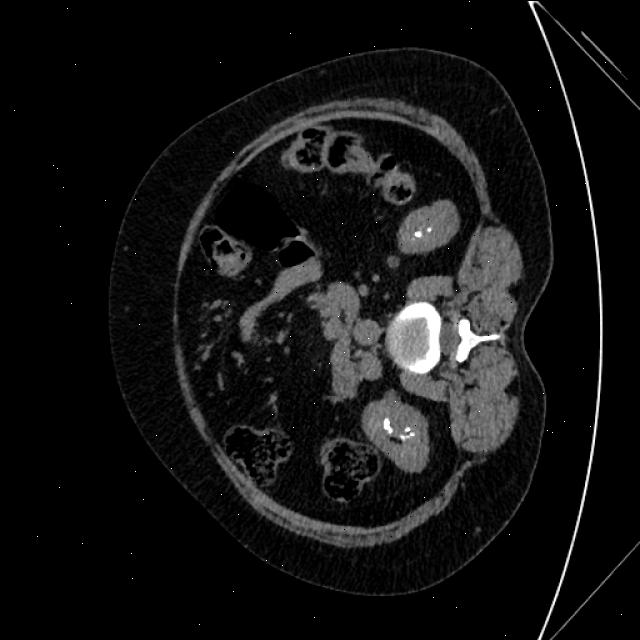kidneystone: (400, 426, 414, 438), (384, 416, 393, 434), (426, 226, 433, 239), (414, 230, 422, 236)
